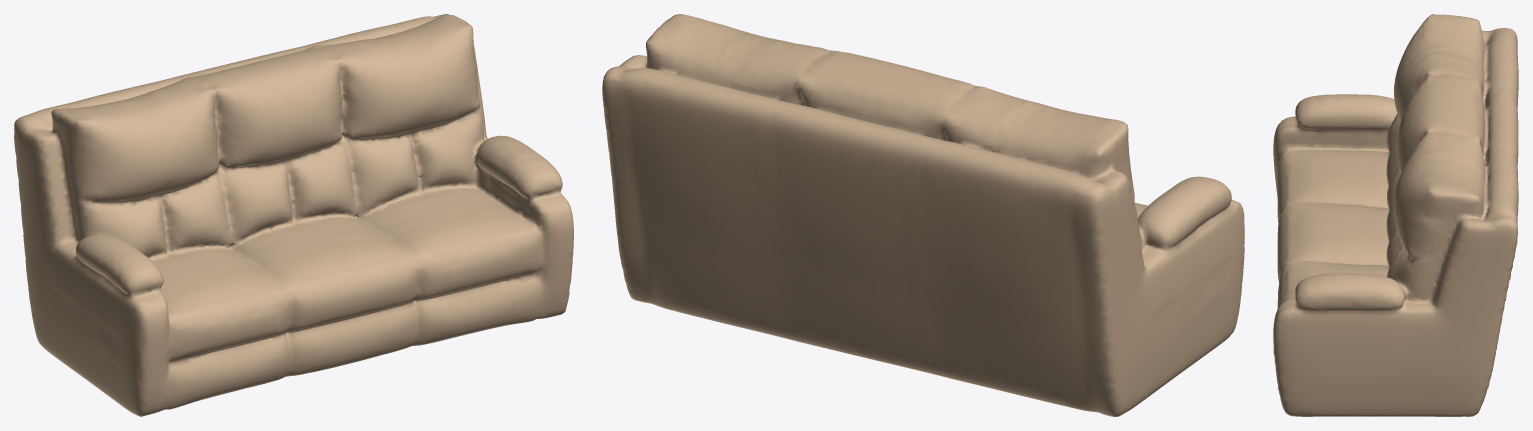
Rendered from sofa-freya-ar.glb.
The picture shows the model from 3 angles, left to right: view 1: azimuth 30°, elevation 25°; view 2: azimuth 150°, elevation 25°; view 3: azimuth 270°, elevation 25°; orthographic projection. The views are drawn at different scales.
Parts seen in each view (by area): view 1: Sofa Recliner 3S Freya; view 2: Sofa Recliner 3S Freya; view 3: Sofa Recliner 3S Freya.
Part boxes in pixels (x1,y1,x2,y2): Sofa Recliner 3S Freya: [14, 14, 573, 416]; Sofa Recliner 3S Freya: [602, 14, 1244, 416]; Sofa Recliner 3S Freya: [1273, 14, 1518, 416].
Bounding box in the file's own units: 1.9 × 1 × 0.99.
